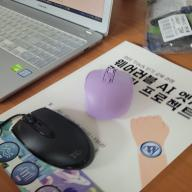mouse: (9, 106, 97, 170), (83, 68, 134, 119)
